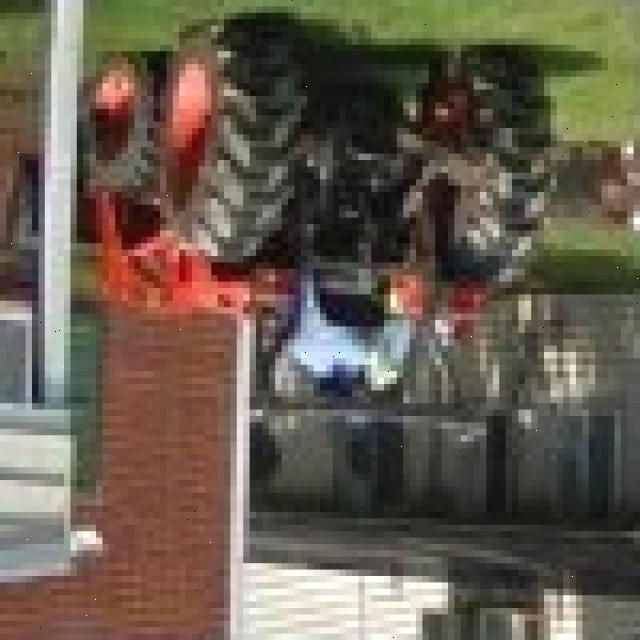Tratores - v5 YOLO V8L 2024-11-13: (64, 7, 563, 410)
